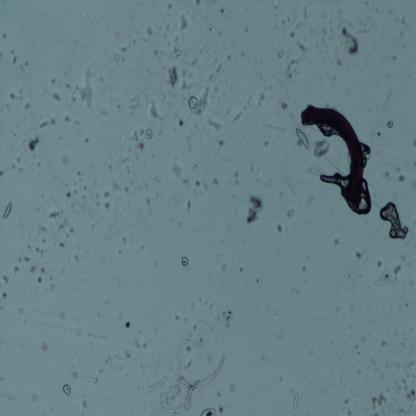Air bubble: (378, 201, 410, 243), (359, 178, 372, 218), (318, 173, 350, 187)
Background material: (0, 242, 47, 286), (74, 62, 96, 111), (313, 8, 335, 46), (337, 25, 361, 56), (104, 348, 134, 370), (280, 55, 305, 81), (190, 88, 210, 119), (131, 127, 153, 155), (285, 11, 307, 38), (395, 379, 416, 406), (55, 364, 81, 384), (233, 96, 252, 123), (58, 219, 75, 249), (249, 194, 266, 224), (121, 177, 145, 198), (127, 92, 145, 118), (215, 307, 236, 329), (115, 150, 136, 172), (358, 10, 376, 35), (146, 96, 162, 123), (170, 161, 189, 182), (296, 127, 311, 152), (165, 64, 179, 89), (313, 137, 331, 156), (113, 44, 129, 64), (193, 298, 214, 313), (79, 388, 90, 415), (370, 394, 387, 411), (37, 116, 57, 130), (295, 38, 310, 54), (10, 87, 24, 104), (224, 211, 233, 237), (397, 359, 416, 371), (86, 331, 108, 341), (144, 195, 154, 217), (103, 188, 112, 212), (2, 202, 14, 220), (179, 13, 189, 34), (36, 223, 50, 238), (277, 325, 293, 338), (26, 137, 39, 152), (132, 337, 148, 349), (77, 182, 89, 198), (207, 120, 223, 132), (210, 65, 221, 82), (86, 374, 101, 386), (398, 332, 408, 350), (50, 89, 62, 104), (48, 208, 63, 220), (179, 253, 190, 269), (304, 193, 314, 210), (8, 46, 17, 64), (0, 287, 10, 303), (152, 46, 162, 62), (62, 382, 72, 398), (325, 70, 336, 84), (331, 233, 341, 248), (245, 322, 254, 338), (92, 190, 100, 208), (39, 339, 49, 353), (397, 405, 411, 415), (194, 176, 203, 191), (62, 5, 73, 17), (59, 153, 71, 164), (286, 206, 296, 219), (185, 198, 193, 214), (46, 278, 55, 292), (7, 128, 18, 139), (392, 262, 402, 274), (353, 249, 363, 261), (277, 45, 285, 60), (16, 305, 26, 317), (184, 359, 194, 371), (232, 173, 240, 188), (156, 174, 166, 186), (348, 305, 357, 318), (399, 14, 408, 27), (146, 22, 154, 36), (270, 0, 281, 10), (397, 173, 407, 184), (251, 156, 262, 166), (290, 286, 300, 296), (303, 220, 313, 230), (176, 118, 186, 128), (352, 367, 362, 377), (17, 62, 28, 71), (218, 7, 229, 16), (221, 262, 230, 273), (275, 220, 282, 234), (383, 381, 391, 393), (82, 132, 90, 144), (164, 22, 172, 34), (57, 311, 66, 321), (74, 250, 80, 265), (206, 267, 212, 282), (182, 315, 191, 325), (263, 138, 271, 149), (116, 246, 124, 257), (398, 252, 406, 263), (64, 112, 72, 123), (76, 168, 82, 182), (212, 174, 219, 186), (217, 139, 226, 148), (24, 101, 32, 111), (74, 325, 82, 335), (30, 392, 38, 402), (196, 388, 204, 398), (166, 0, 174, 10), (63, 138, 71, 148), (98, 254, 106, 264), (171, 314, 181, 322), (368, 355, 376, 365), (215, 249, 221, 262), (383, 360, 390, 371), (113, 30, 120, 41), (259, 354, 267, 363), (49, 76, 58, 84), (393, 164, 402, 172), (108, 158, 113, 172), (124, 320, 131, 330), (1, 30, 8, 40), (379, 338, 386, 348), (385, 168, 391, 179), (274, 314, 282, 322), (114, 100, 122, 108), (121, 234, 128, 243), (333, 346, 340, 355), (17, 12, 24, 21), (345, 407, 354, 414), (198, 333, 204, 343), (22, 137, 28, 147), (203, 182, 209, 192), (335, 58, 342, 66), (9, 162, 16, 170), (206, 355, 213, 363), (64, 191, 71, 199), (74, 118, 81, 126), (300, 264, 307, 272), (18, 165, 24, 174), (411, 138, 416, 148), (344, 396, 349, 406), (322, 385, 327, 395), (240, 263, 245, 273), (99, 75, 106, 82), (6, 104, 12, 112), (377, 259, 383, 267), (376, 129, 382, 137), (192, 55, 198, 63), (254, 276, 262, 282), (360, 334, 366, 342), (35, 160, 41, 168), (354, 342, 360, 350), (193, 322, 198, 331), (216, 390, 221, 399), (124, 373, 129, 382), (16, 155, 21, 164), (66, 82, 73, 88), (118, 313, 124, 320), (319, 315, 325, 322), (268, 180, 273, 188), (302, 386, 307, 394), (268, 196, 273, 204), (346, 88, 352, 94), (0, 168, 4, 177), (42, 410, 48, 416), (227, 55, 232, 62), (21, 114, 26, 121), (49, 406, 54, 413), (220, 406, 224, 414), (176, 36, 180, 43), (289, 276, 293, 283), (68, 65, 73, 70), (353, 243, 358, 248), (394, 56, 398, 62), (0, 376, 4, 382), (403, 303, 409, 307), (364, 0, 368, 6), (244, 28, 248, 33), (64, 70, 67, 76), (230, 386, 233, 392)
Glass filter fibre: (0, 55, 197, 239), (179, 0, 298, 124), (346, 220, 383, 301), (177, 339, 226, 388), (158, 380, 199, 414), (374, 86, 400, 134), (274, 169, 298, 193), (397, 178, 416, 206), (374, 268, 396, 288), (5, 394, 30, 411), (146, 376, 169, 391), (311, 164, 325, 178), (200, 405, 215, 416), (292, 390, 300, 410), (169, 47, 182, 59), (196, 209, 208, 214)
Microfibre: (299, 104, 365, 208)
